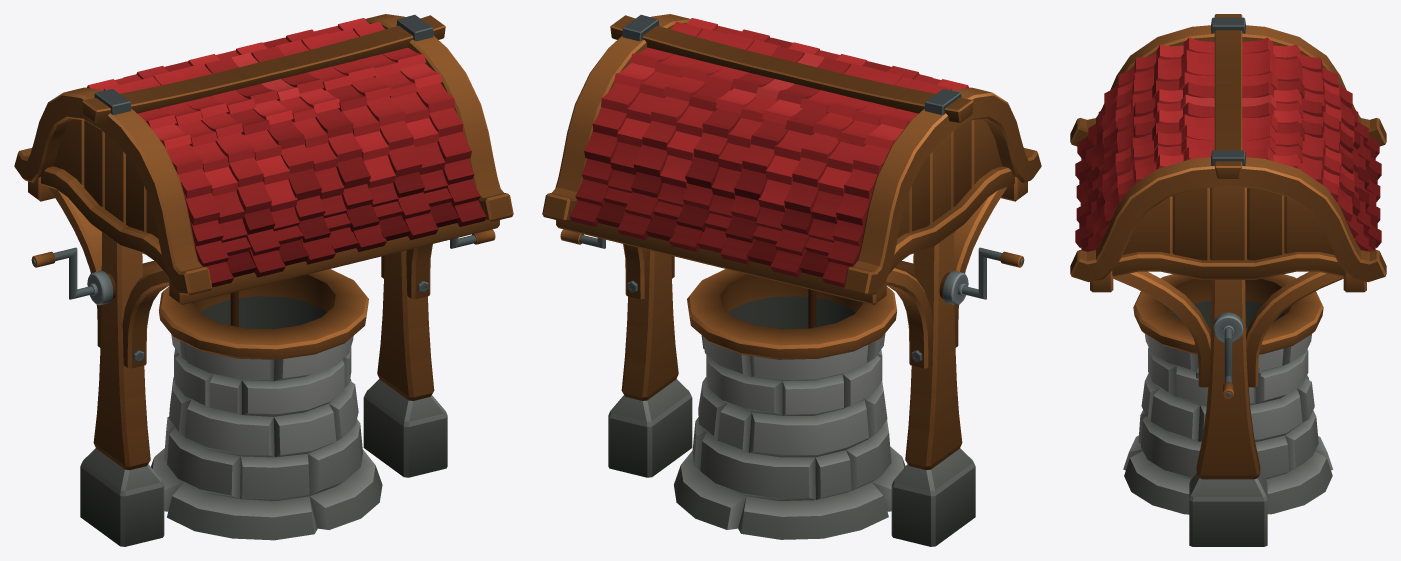
Rendered from WaterWall.fbx.
3 renders of one model, left to right at view 1: azimuth 30°, elevation 25°; view 2: azimuth 150°, elevation 25°; view 3: azimuth 270°, elevation 25°, orthographic. The views are drawn at different scales.
Parts seen in each view (by area): view 1: WaterWall; view 2: WaterWall; view 3: WaterWall.
Part boxes in pixels (left/top/right/bottom): WaterWall: left=14, top=14, right=513, bottom=546; WaterWall: left=542, top=14, right=1041, bottom=546; WaterWall: left=1070, top=14, right=1386, bottom=546.
Size of the model in its own units: 501 by 449 by 332.
